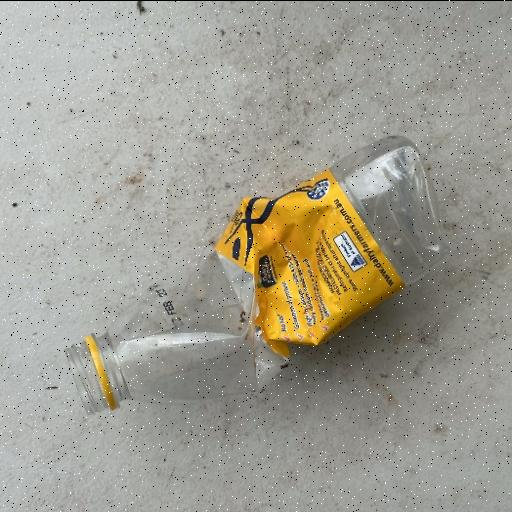Plastic: (62, 132, 450, 418), (212, 133, 448, 359)
